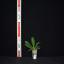leaf: (25, 41, 34, 49), (34, 42, 41, 49), (25, 44, 34, 49), (31, 37, 35, 48), (35, 46, 41, 50), (28, 49, 34, 52), (35, 48, 40, 50)
